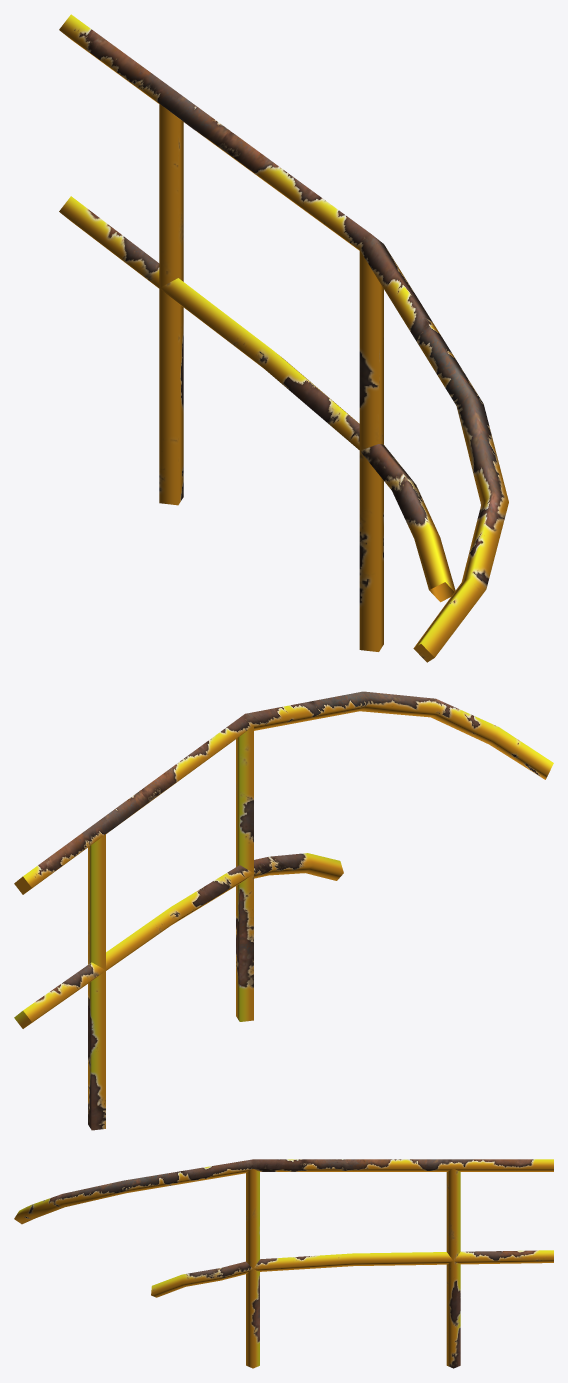
Rendered from safetyRail_3m_C.fbx.
The picture shows the model from 3 angles, top to bottom: view 1: azimuth 30°, elevation 25°; view 2: azimuth 150°, elevation 25°; view 3: azimuth 270°, elevation 25°; orthographic projection. The views are drawn at different scales.
Visible parts, largest first — view 1: safetyRail_3m_C; view 2: safetyRail_3m_C; view 3: safetyRail_3m_C.
Part boxes in pixels (bbox=[...]): safetyRail_3m_C: bbox=[59, 14, 508, 662]; safetyRail_3m_C: bbox=[14, 691, 553, 1130]; safetyRail_3m_C: bbox=[14, 1159, 553, 1368].
Bounding box in the file's own units: 56.67 × 113 × 269.
